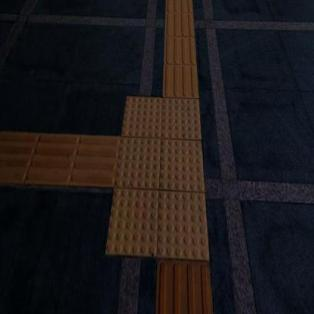Podoctatil: (89, 65, 232, 287), (0, 130, 110, 191), (163, 0, 198, 97), (156, 260, 212, 314)
